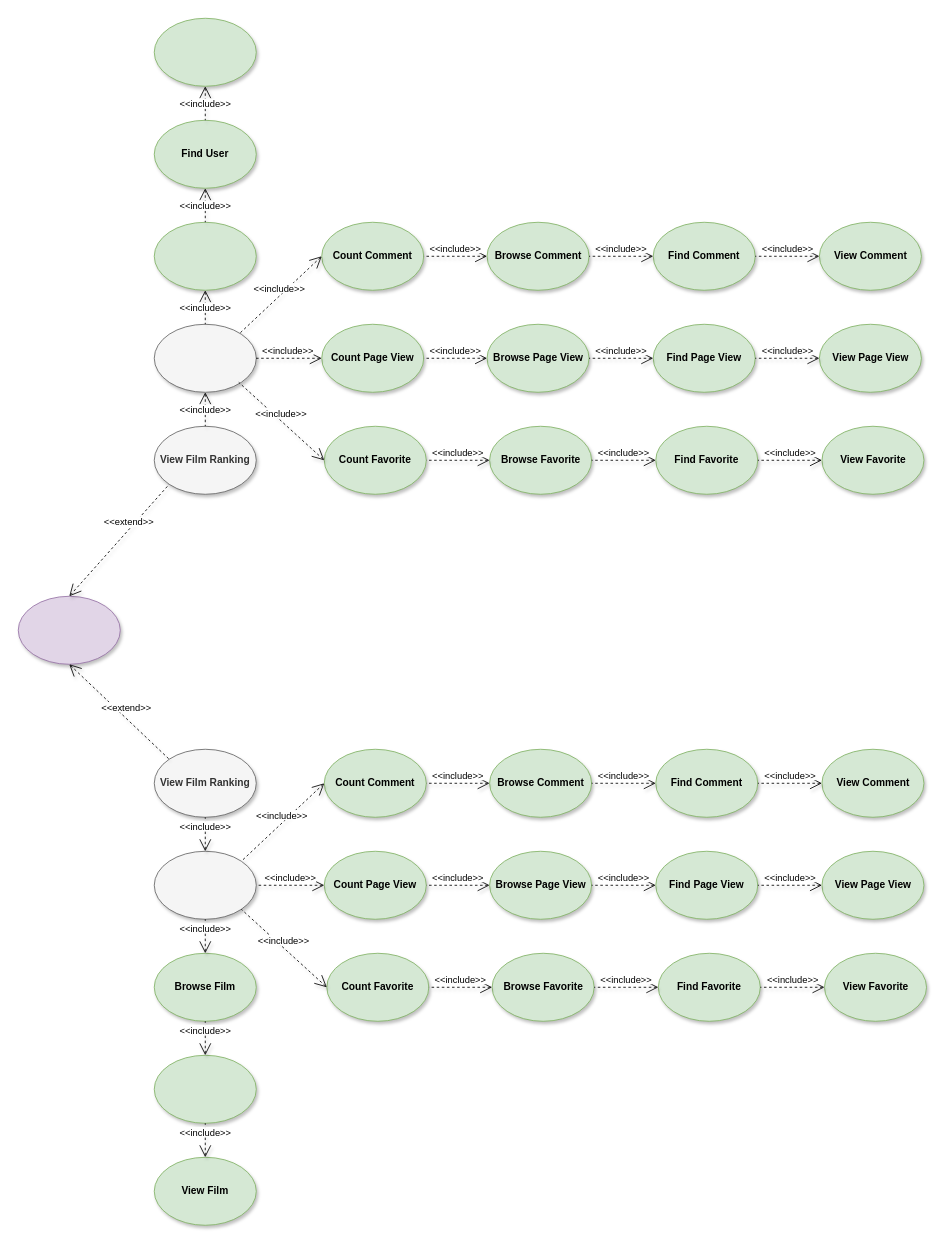
This 947x1246 diagram has some shape labels left out. Here are the shapes that lost their labels. From the top down, the centre of each, then its label:
point 205,53: View User
point 205,257: Browse User
point 205,359: Group by User
point 69,631: View Ranking
point 205,886: Group by Film
point 205,1090: Find Film
